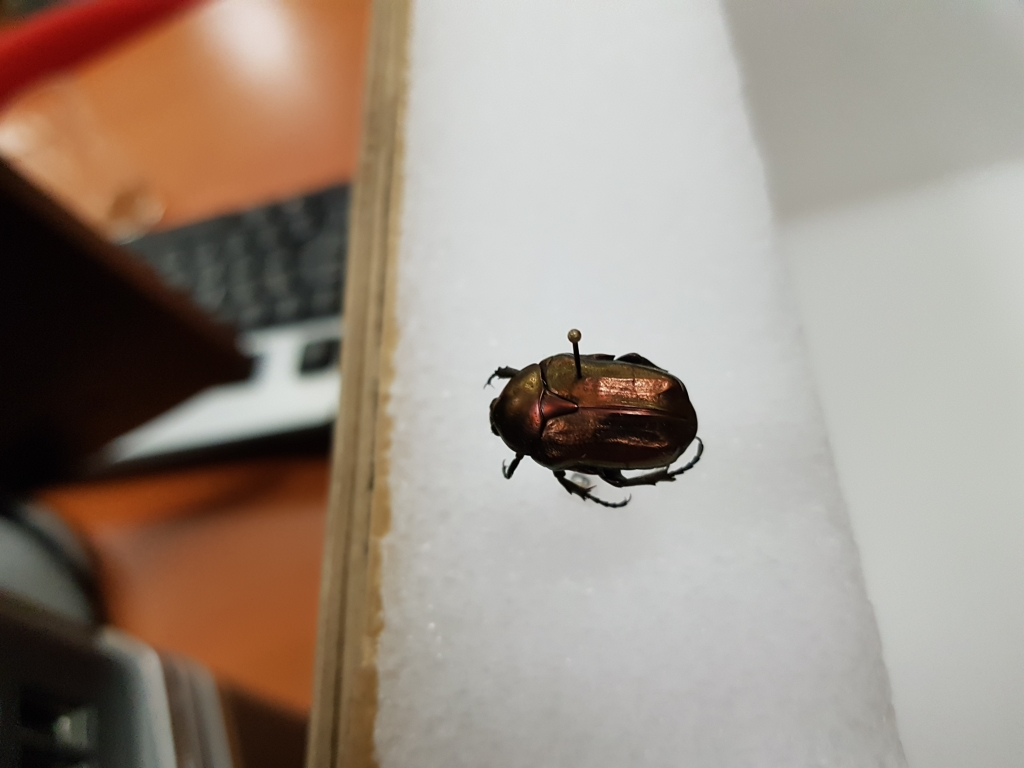Cetonia_aurata: (475, 350, 709, 517)
